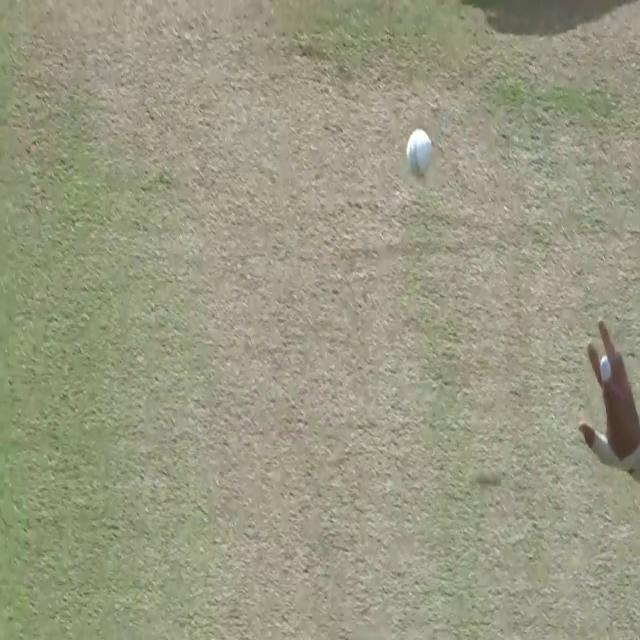ball: (403, 125, 437, 182)
